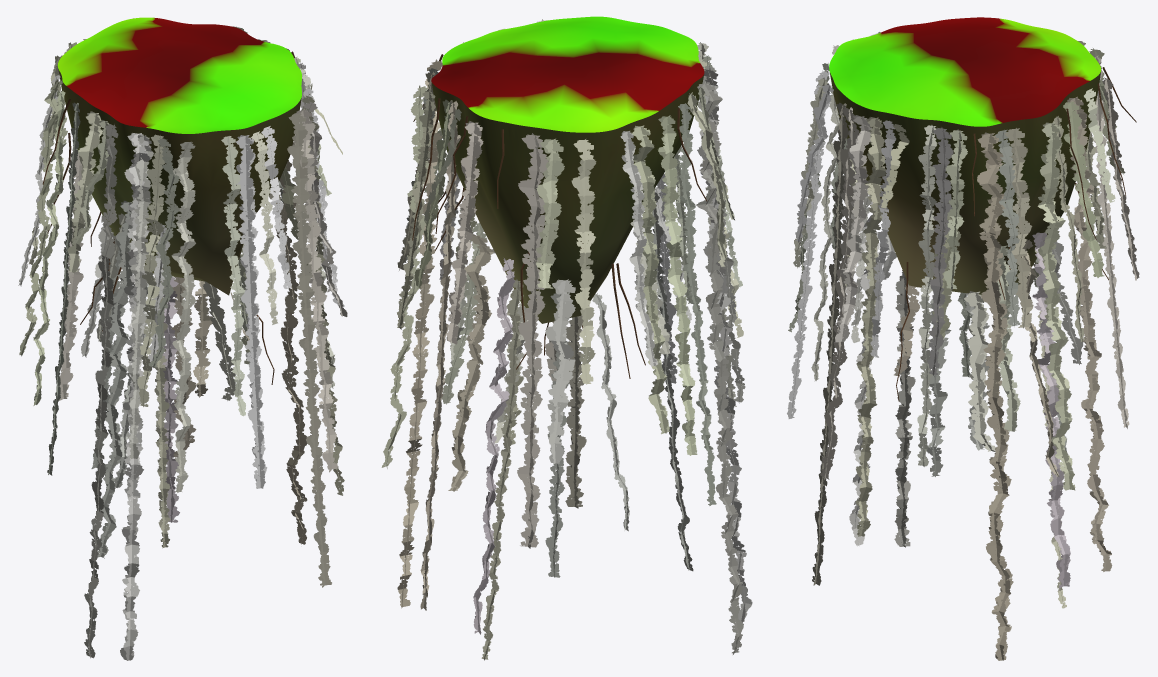
The model's file is SM_H07_Floater01.fbx.
The picture shows the model from 3 angles, left to right: view 1: azimuth 30°, elevation 25°; view 2: azimuth 150°, elevation 25°; view 3: azimuth 270°, elevation 25°; orthographic projection. The views are drawn at different scales.
Visible parts, largest first — view 1: SM_H07_Floater01_Ivy, SM_H07_Floater01; view 2: SM_H07_Floater01_Ivy, SM_H07_Floater01; view 3: SM_H07_Floater01_Ivy, SM_H07_Floater01.
Part boxes in pixels (x1,y1,x2,y2): SM_H07_Floater01_Ivy: (18, 18, 347, 660); SM_H07_Floater01: (57, 17, 301, 295); SM_H07_Floater01_Ivy: (381, 19, 752, 660); SM_H07_Floater01: (431, 16, 704, 323); SM_H07_Floater01_Ivy: (787, 32, 1139, 660); SM_H07_Floater01: (829, 17, 1100, 294).
Size of the model in its own units: 16.89 by 31.02 by 18.42.
